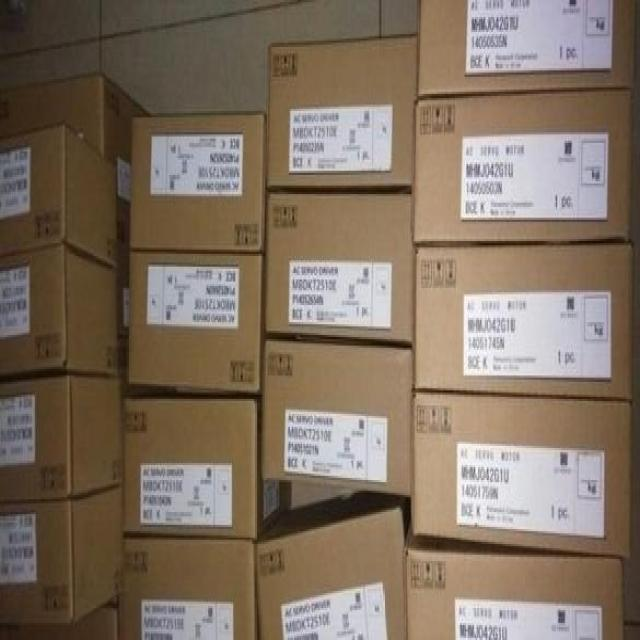box: (410, 388, 640, 561), (412, 90, 640, 258), (412, 243, 640, 401), (0, 73, 152, 250), (403, 527, 626, 640), (123, 397, 292, 540), (261, 339, 412, 497), (267, 34, 418, 188), (265, 192, 415, 346), (256, 491, 411, 640), (416, 0, 640, 98), (128, 252, 266, 395), (130, 115, 267, 254), (0, 484, 124, 623), (0, 124, 118, 267), (106, 538, 260, 640), (0, 245, 118, 378), (0, 378, 123, 503), (116, 245, 175, 395), (0, 606, 117, 640)
